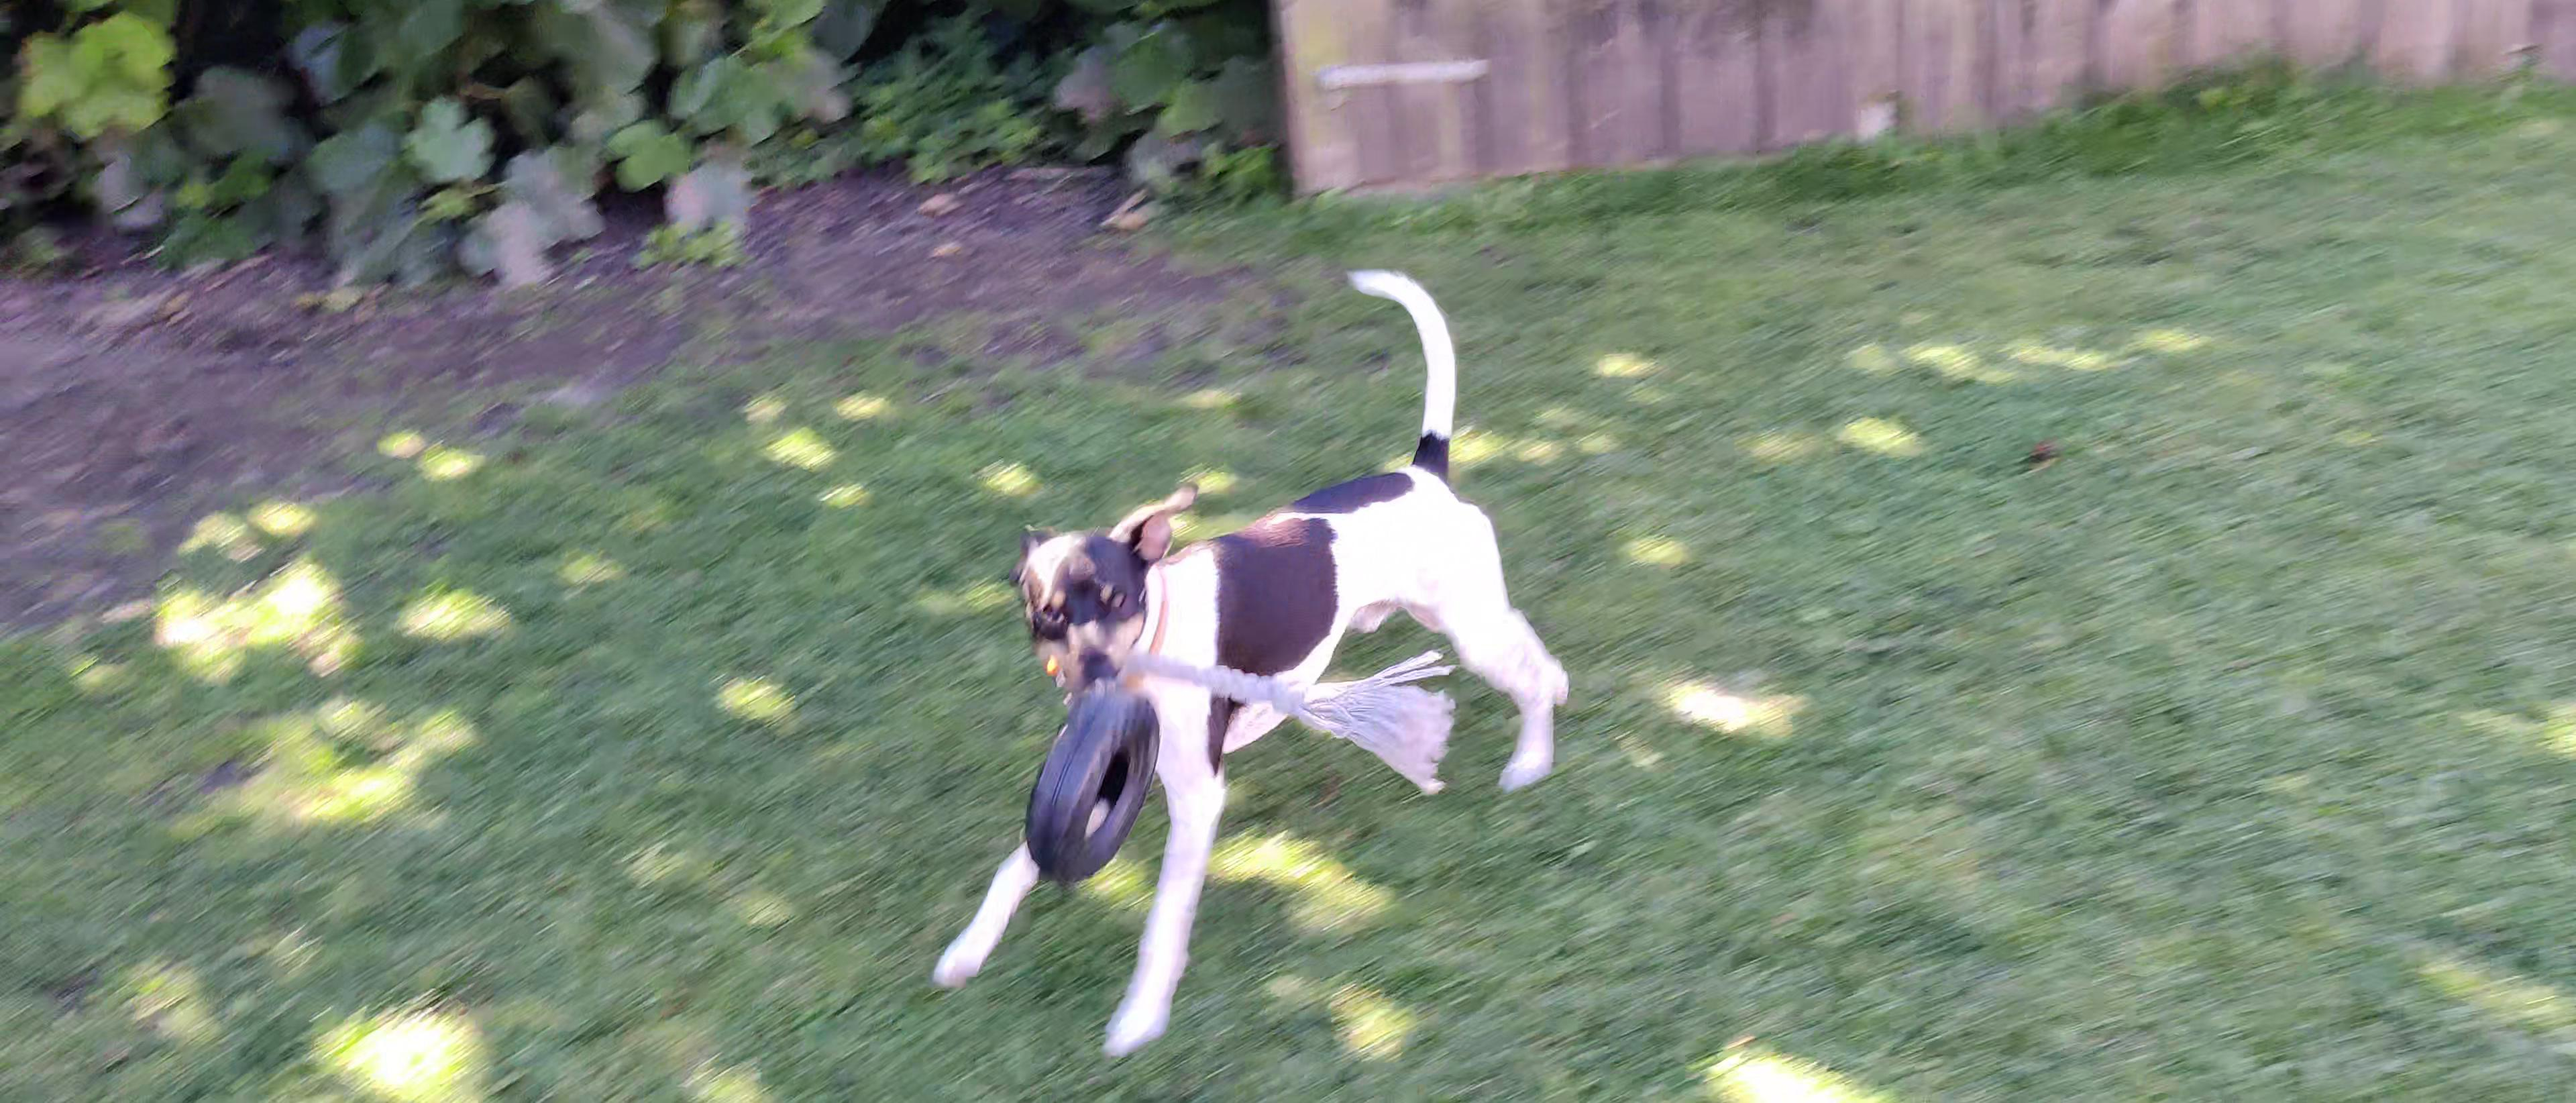Dog: (882, 256, 1607, 1050)
